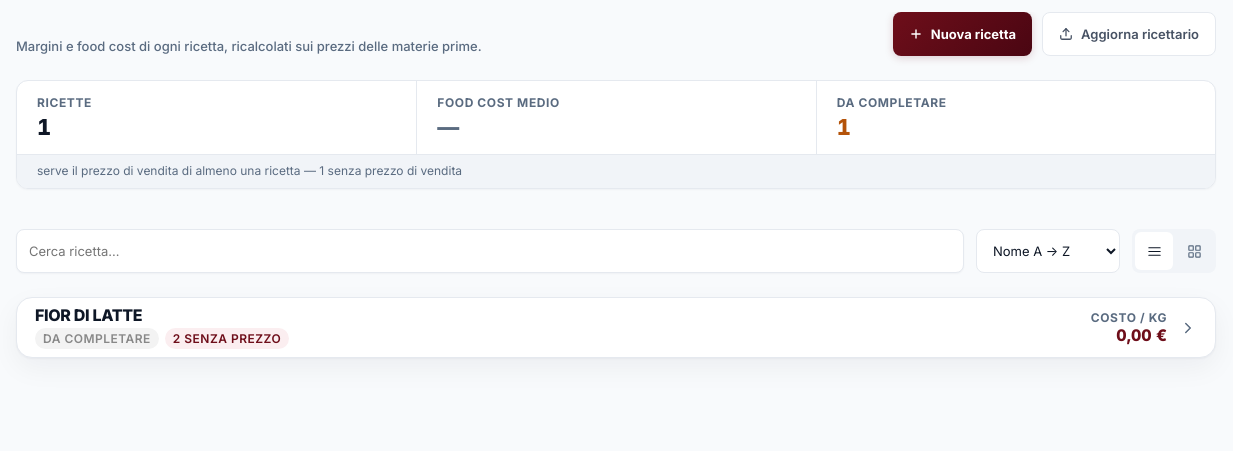
Test: Le azioni stanno in un quadrato › due colonne, non una fila che va a capo come capita
Click the button "FIOR DI LATTE Da completare 2 senza prezzo Costo / kg 0,00 €": point(89, 315) [16, 297, 1216, 358]
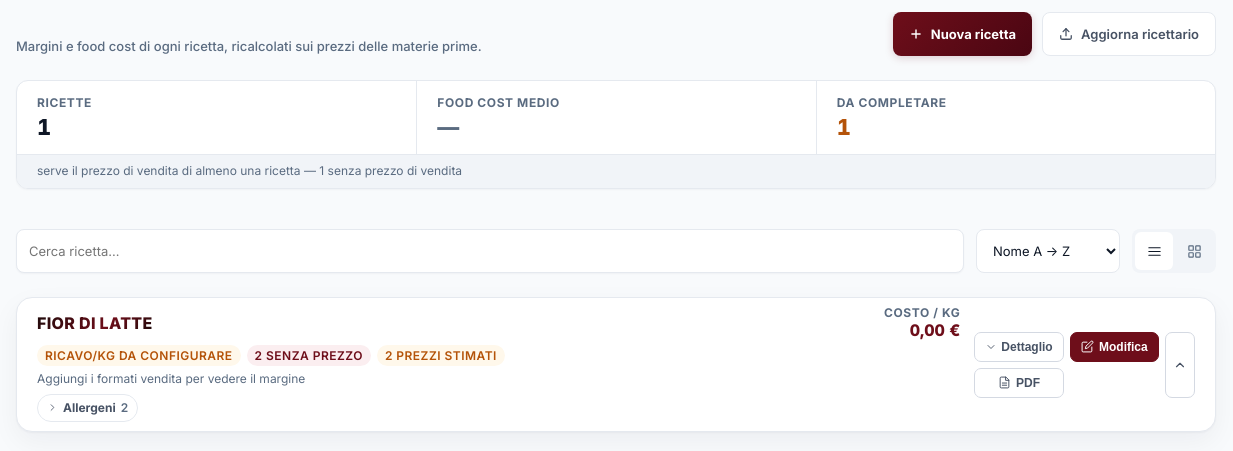
Check: the element showing "Dettaglio Modifica PDF" is shown, box [974, 332, 1159, 398]
